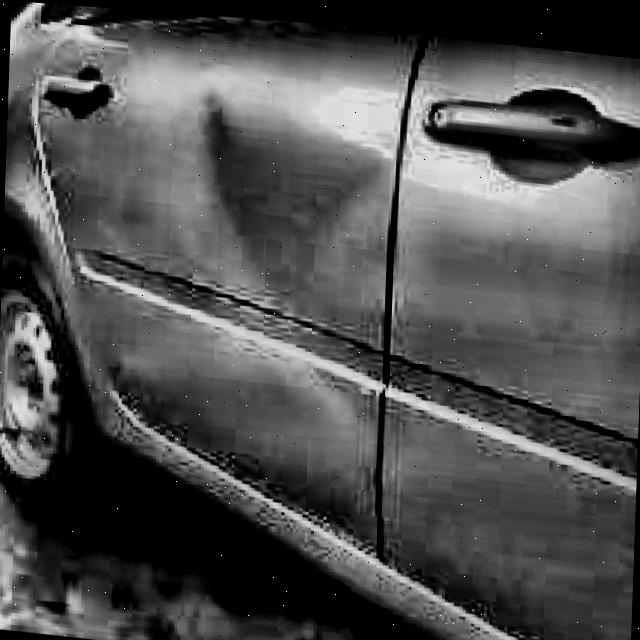door_dent: (192, 104, 374, 363)
